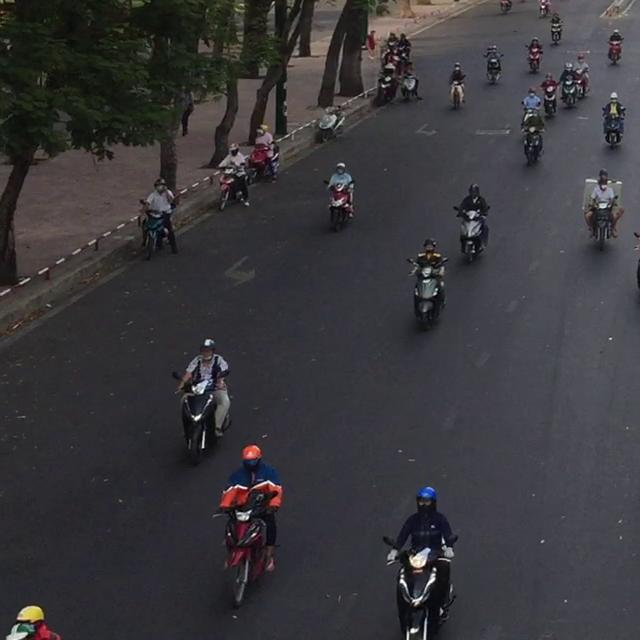Motorcycle: (212, 479, 281, 608), (382, 532, 457, 639), (171, 370, 232, 465), (406, 255, 448, 331), (138, 196, 178, 260), (452, 204, 490, 263), (585, 194, 620, 251), (322, 178, 355, 232), (215, 163, 250, 211), (315, 101, 350, 143), (246, 144, 278, 184), (520, 123, 545, 166), (602, 107, 625, 148), (482, 51, 504, 84), (571, 64, 590, 98), (558, 75, 577, 108), (539, 83, 557, 116), (449, 77, 466, 109), (525, 44, 543, 73), (606, 37, 623, 64), (632, 231, 639, 291), (549, 20, 563, 45)
